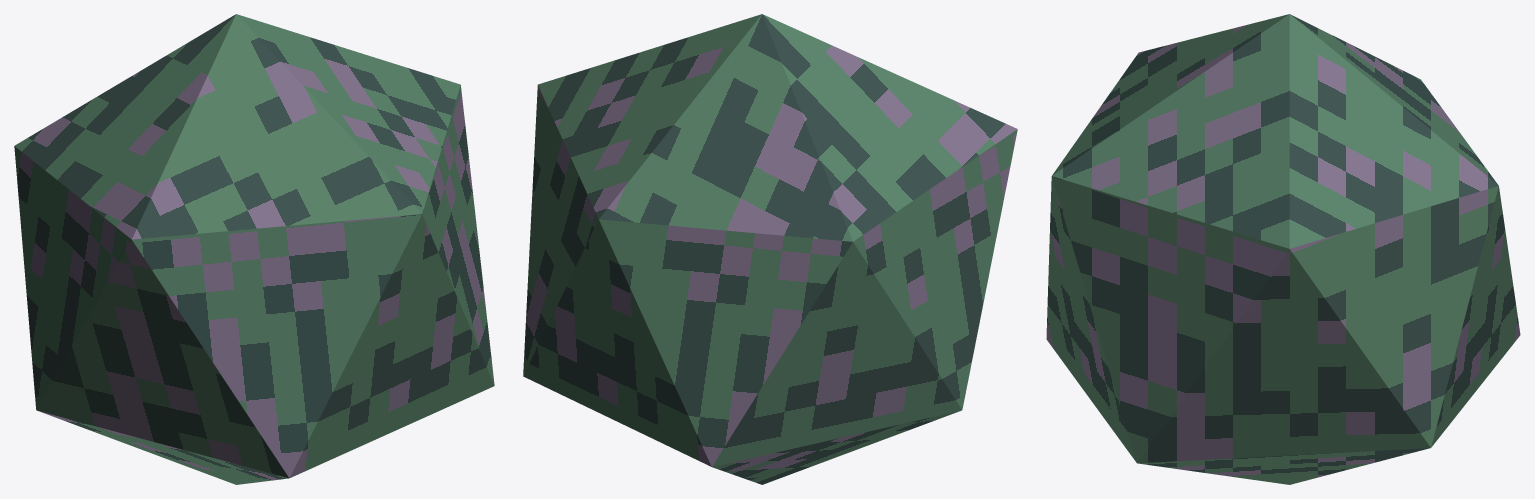
Rendered from a25_alavanca_de_agua.glb.
The picture shows the model from 3 angles, left to right: view 1: azimuth 30°, elevation 25°; view 2: azimuth 150°, elevation 25°; view 3: azimuth 270°, elevation 25°; orthographic projection.
Parts seen in each view (by area): view 1: a25_alavanca_de_agua; view 2: a25_alavanca_de_agua; view 3: a25_alavanca_de_agua.
Part boxes in pixels (x1,y1,x2,y2): a25_alavanca_de_agua: (14,14,494,484); a25_alavanca_de_agua: (523,14,1017,484); a25_alavanca_de_agua: (1046,14,1520,484).
Size of the model in its own units: 1.08 by 1.15 by 1.05.
Materials: 1 (1 with a texture image).
